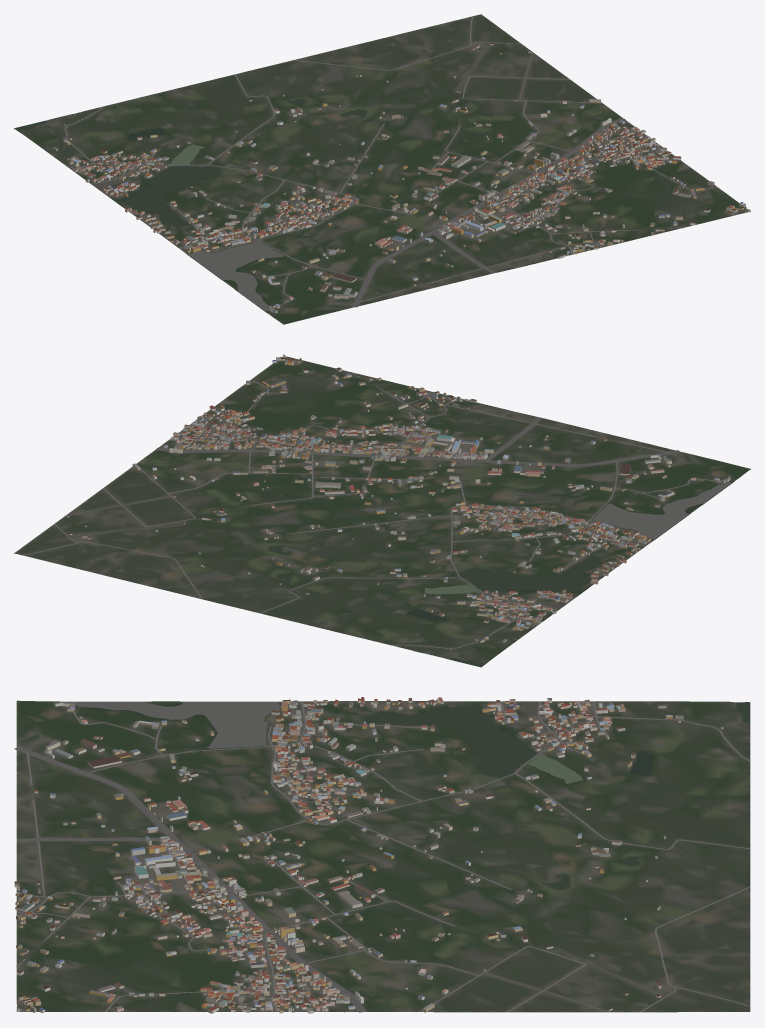
3 renders of one model, top to bottom at view 1: azimuth 30°, elevation 25°; view 2: azimuth 150°, elevation 25°; view 3: azimuth 270°, elevation 25°, orthographic. The views are drawn at different scales.
Visible parts, largest first — view 1: ground, buildings, roads, water; view 2: ground, buildings, roads, water; view 3: ground, buildings, water, roads.
Boxes of the visible parts, x1=… form: ground: x1=14, y1=14, x2=750, y2=324; buildings: x1=52, y1=43, x2=750, y2=313; roads: x1=64, y1=16, x2=748, y2=307; water: x1=15, y1=98, x2=367, y2=311; ground: x1=14, y1=356, x2=750, y2=667; buildings: x1=67, y1=354, x2=730, y2=650; roads: x1=22, y1=357, x2=713, y2=648; water: x1=268, y1=482, x2=731, y2=666; ground: x1=16, y1=700, x2=750, y2=1012; buildings: x1=14, y1=697, x2=723, y2=1013; water: x1=67, y1=701, x2=749, y2=889; roads: x1=14, y1=701, x2=750, y2=1012.
Size of the model in its own units: 1417 by 21.75 by 1409.
